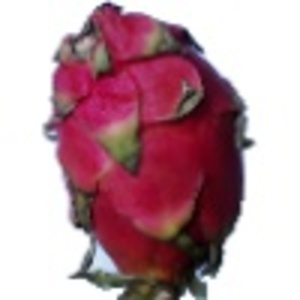pitaia: (43, 1, 254, 300)
